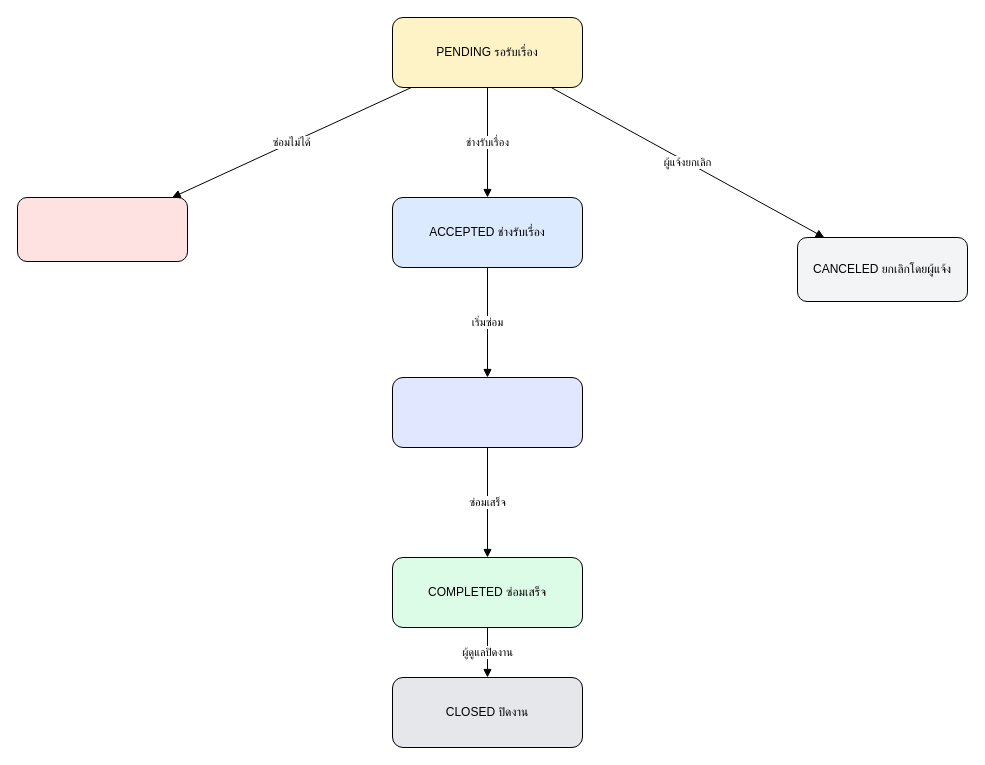
This 985x765 diagram has some shape labels left out. The centre of each missing label's shape, as x and y in pixels:
"IN_PROGRESS กำลังซ่อม" belongs at point 487,412.
"REJECTED ถูกปฏิเสธ" belongs at point 102,229.
